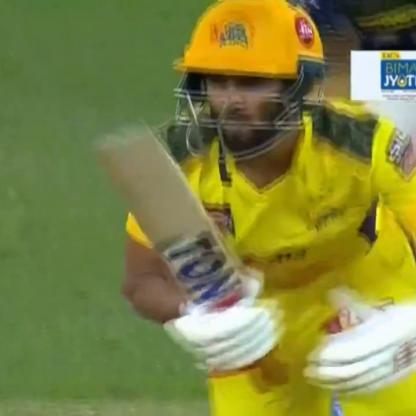bat: (84, 118, 263, 336)
